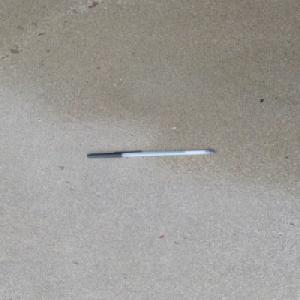Pen: (85, 149, 215, 158)
